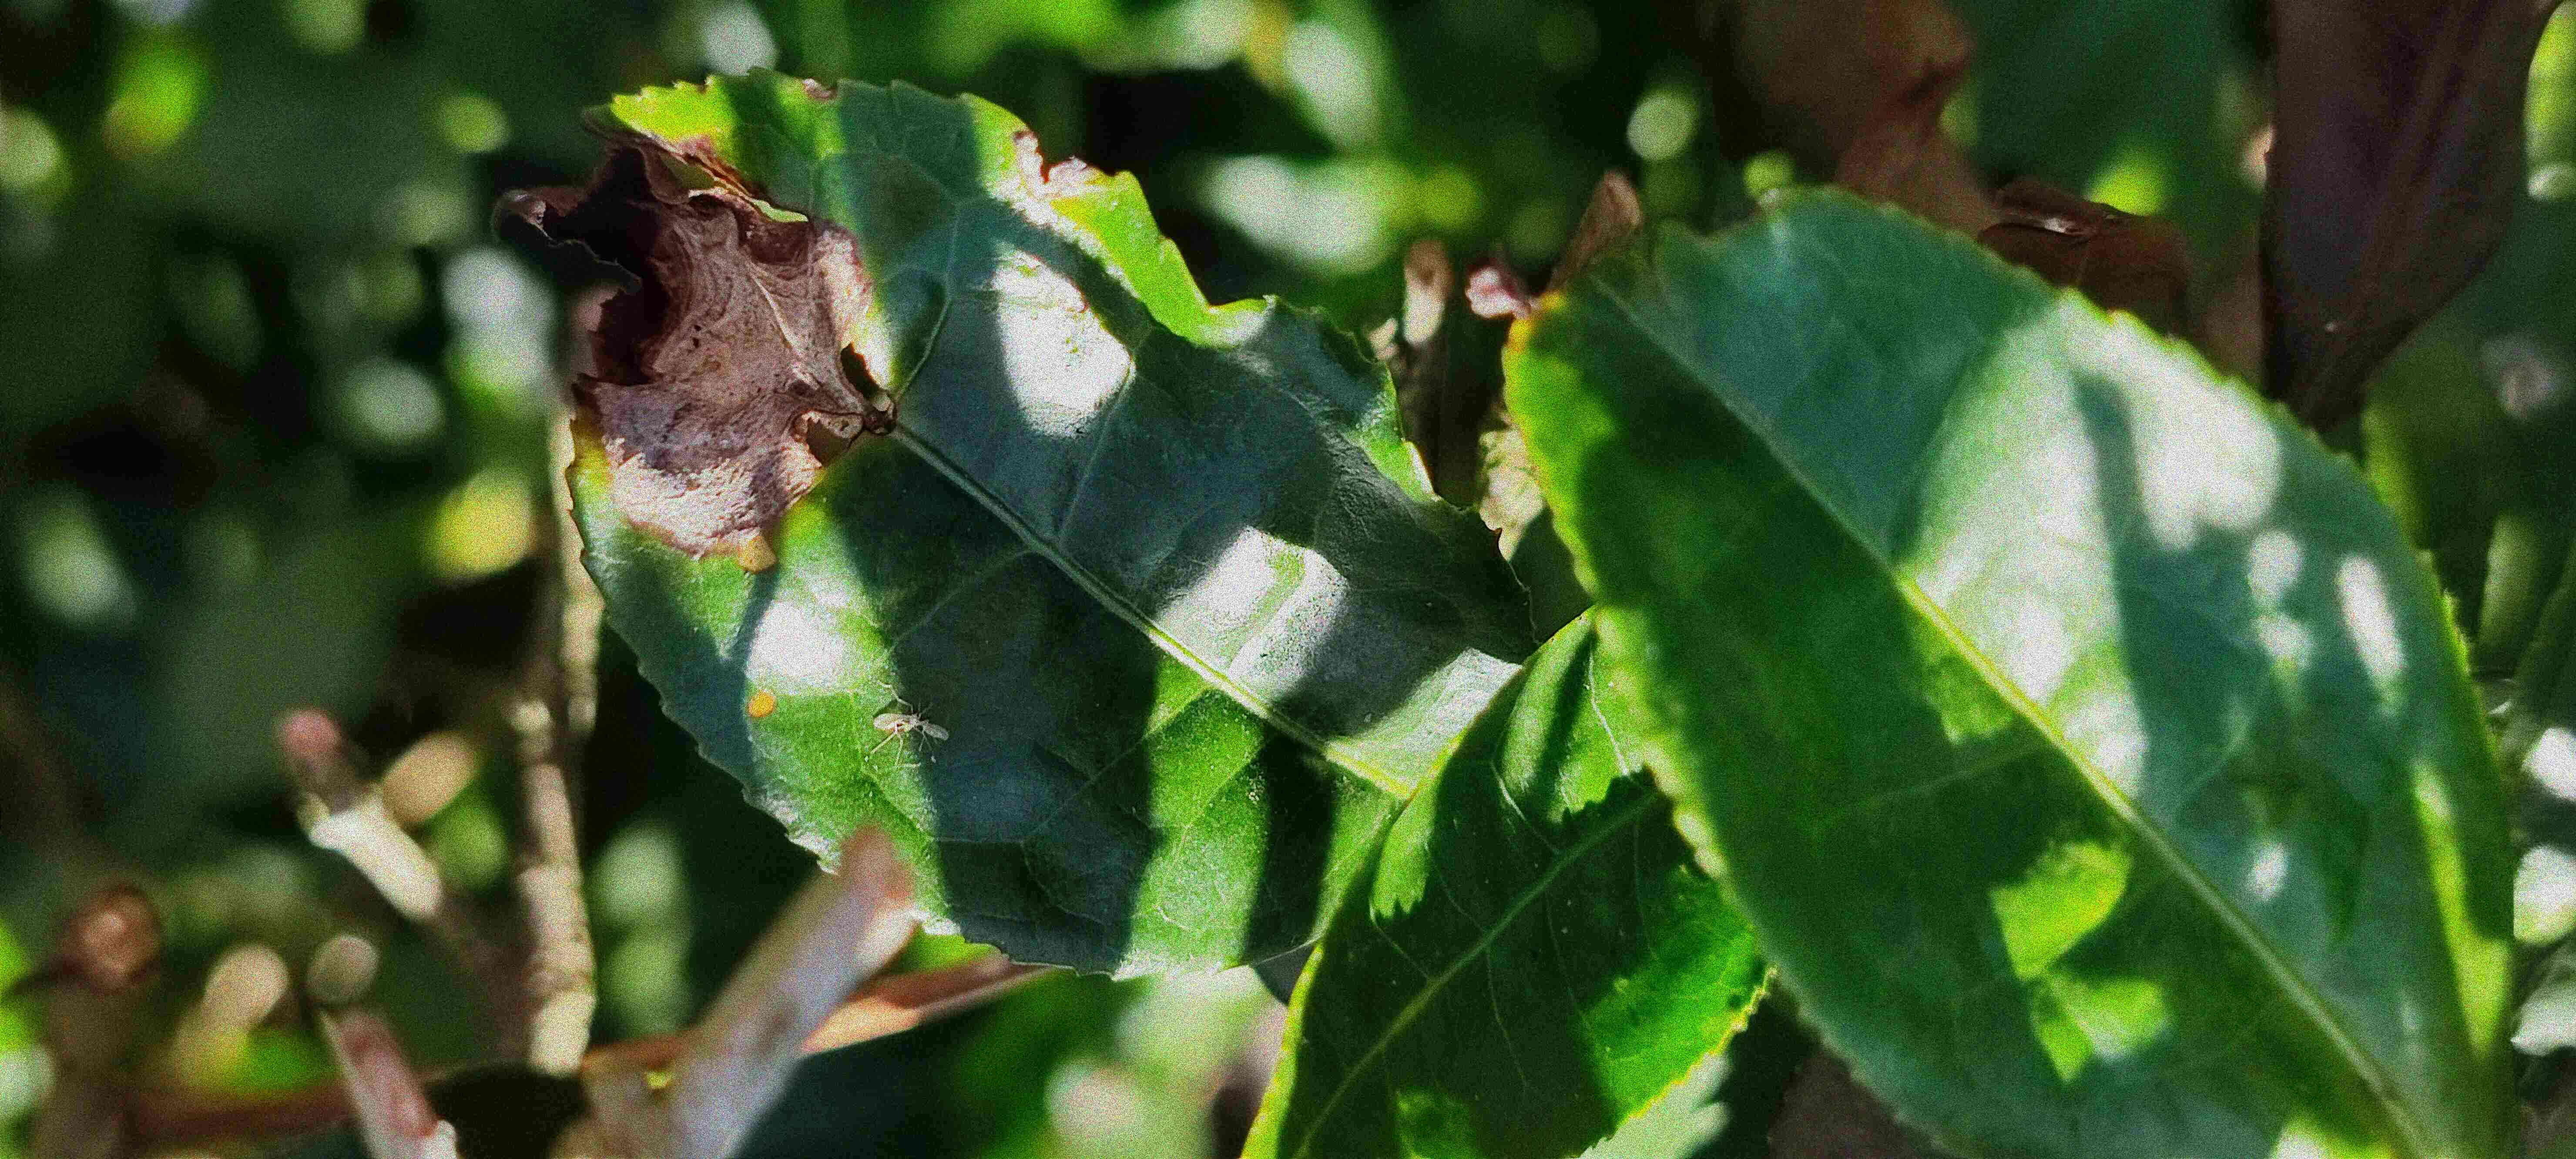tanju_high: (485, 67, 1546, 985)
tanju_low: (1465, 179, 2517, 1159)
